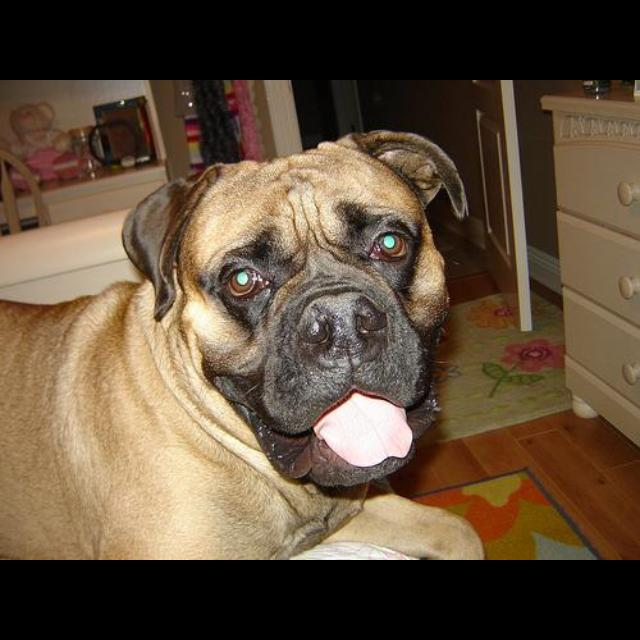bullmastiff: (2, 129, 487, 560)
